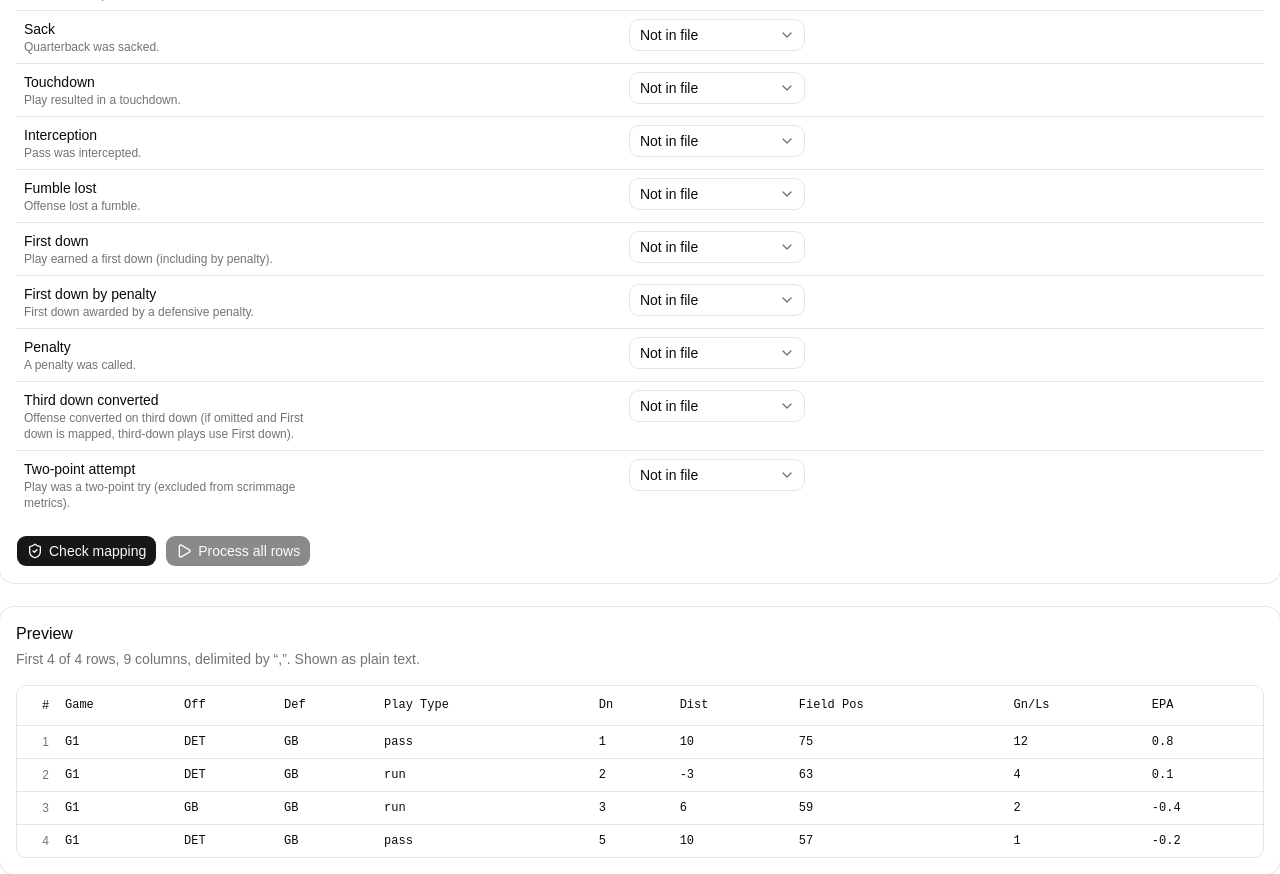
Scenario: UploadDetailPage › shows mapping errors when the server rejects the mapping
(page scrolled)
Click the button "Check mapping".
click(87, 550)  # box [16,534,157,566]
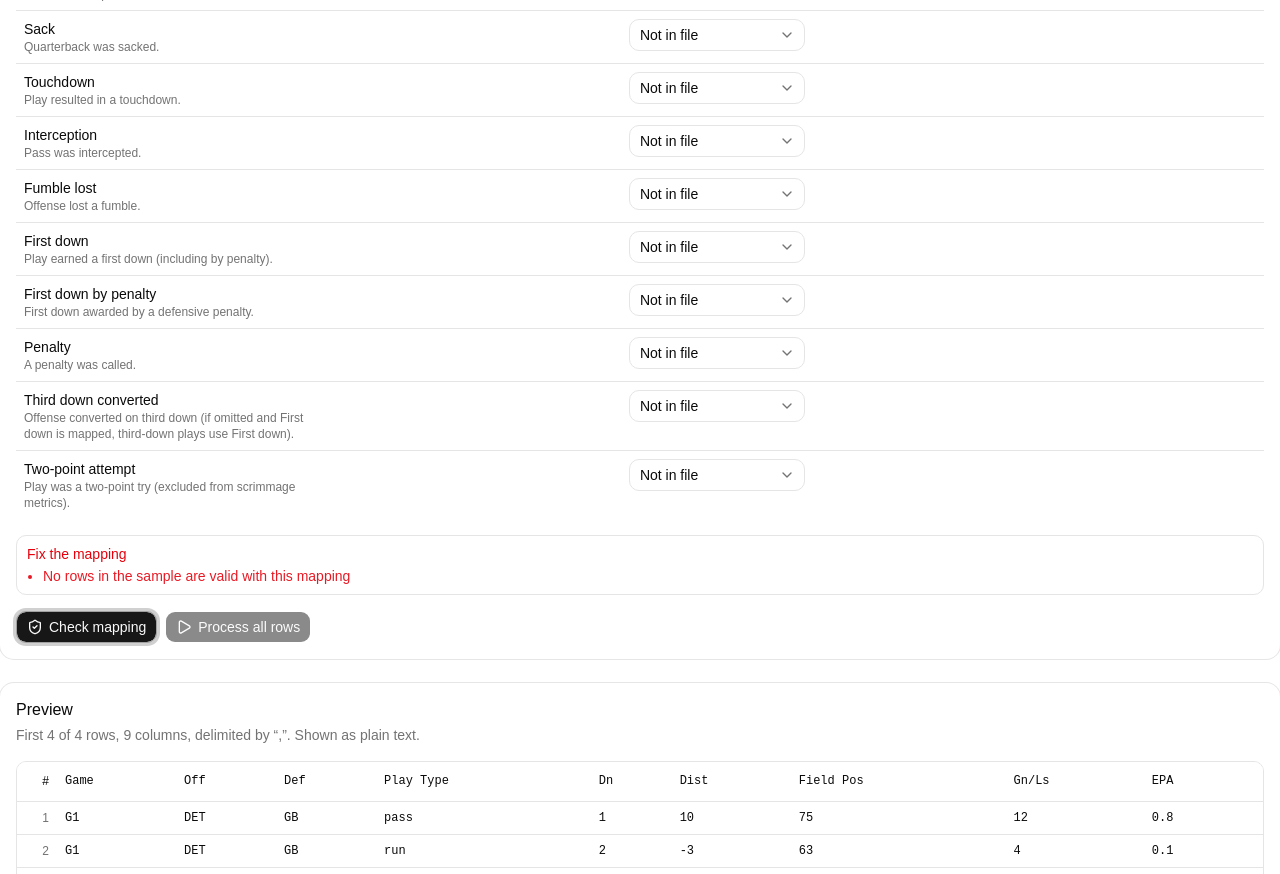
Expected: the message with test id "mapping-errors" shows "No rows in the sample are valid", [43,568,350,584]
